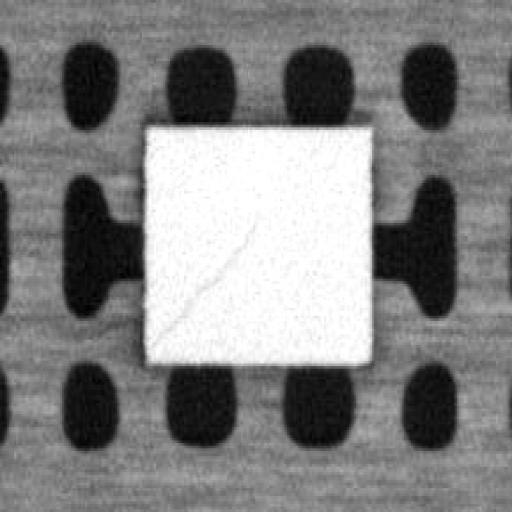DIE_CRACK: (150, 220, 257, 345)
